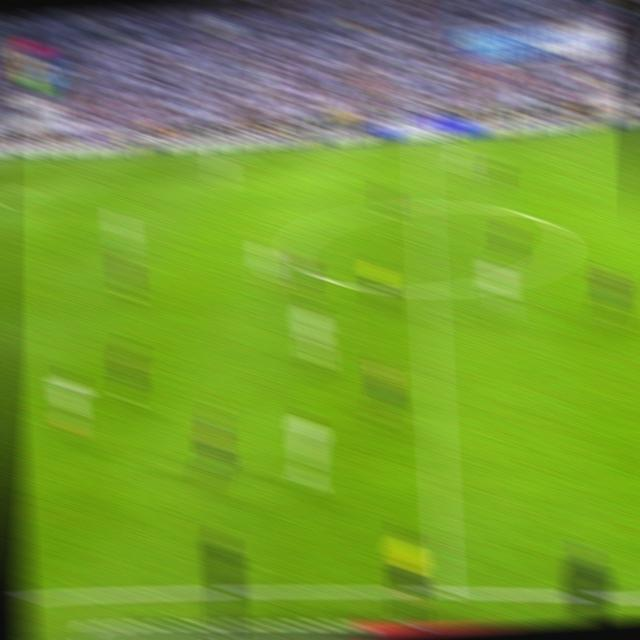halfcircle_bottom: (415, 272, 441, 306)
halfcircle_top: (411, 191, 436, 220)
midline_bottom_intersection: (430, 567, 459, 604)
midline_top_intersection: (410, 134, 430, 153)
